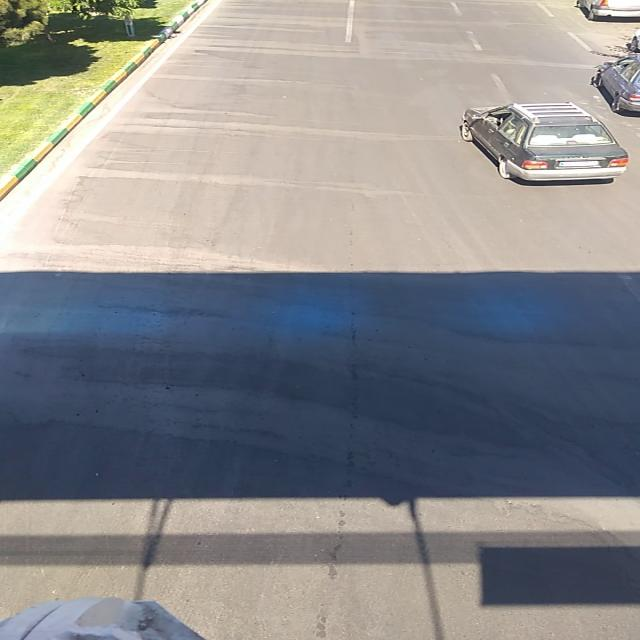car: (460, 100, 630, 182), (589, 54, 639, 114), (578, 1, 638, 19)
